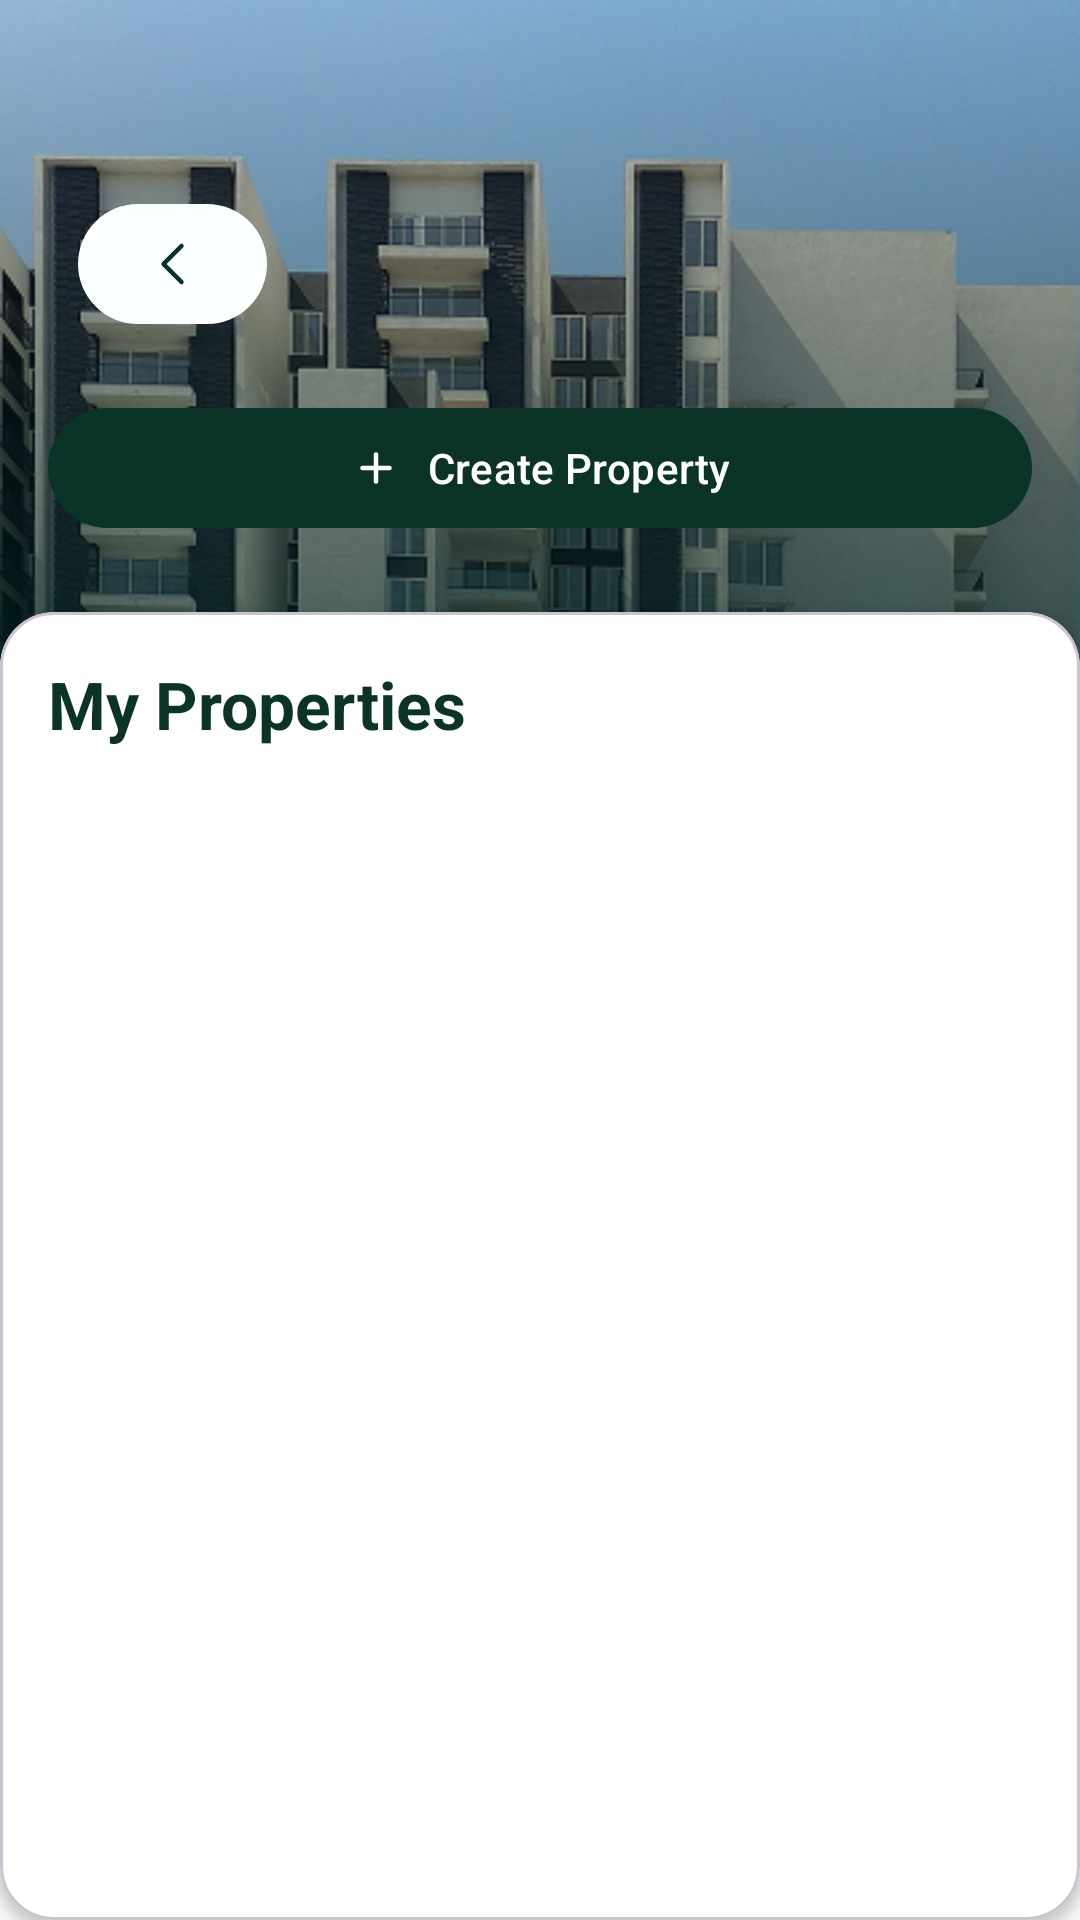

Screen size 1080w x 1920h. Icon name, then its center in pixels as (x,y):
back: (172,264)
